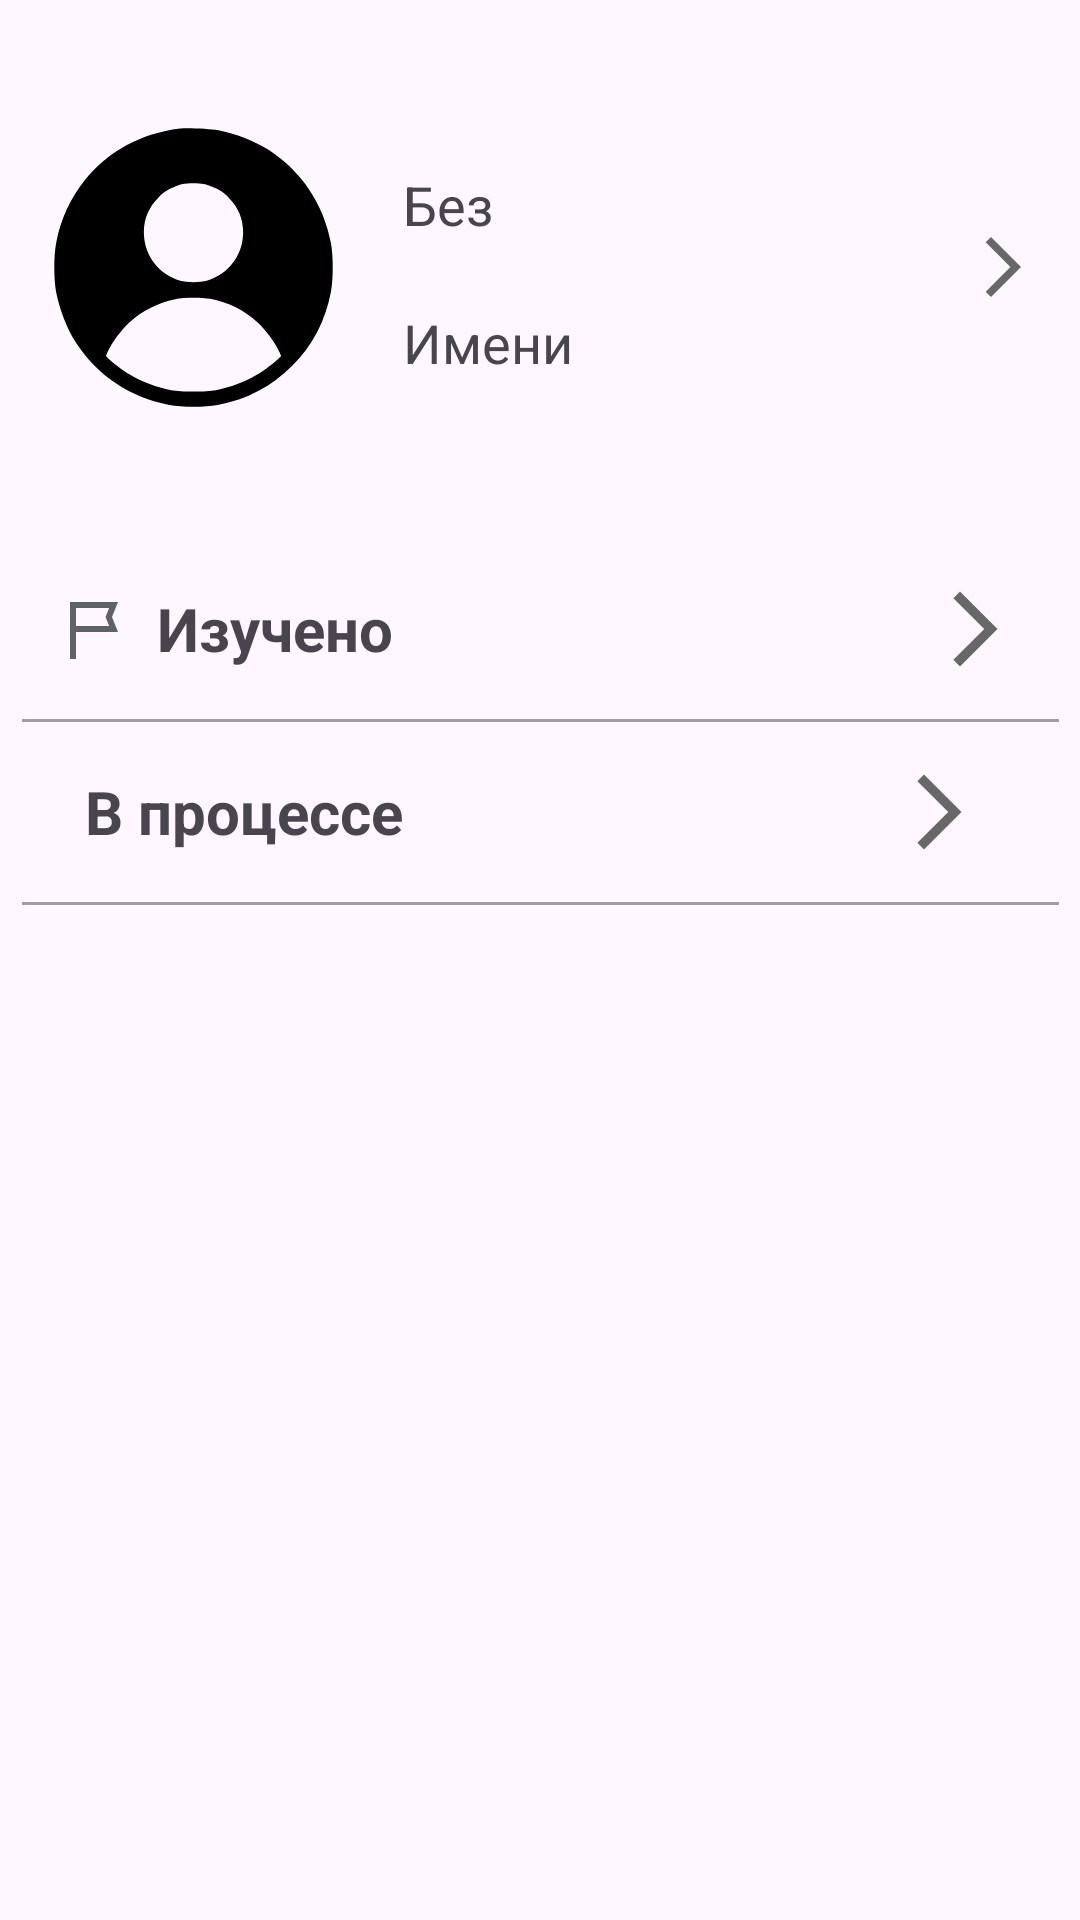

Icons on this 1080px×1920px Android screen, each with the point to tap as (x=x, y=y):
arrow: (x=1003, y=267), (x=975, y=629), (x=939, y=812)
flag learned: (x=94, y=630)
newiconofprofile: (x=193, y=267)
